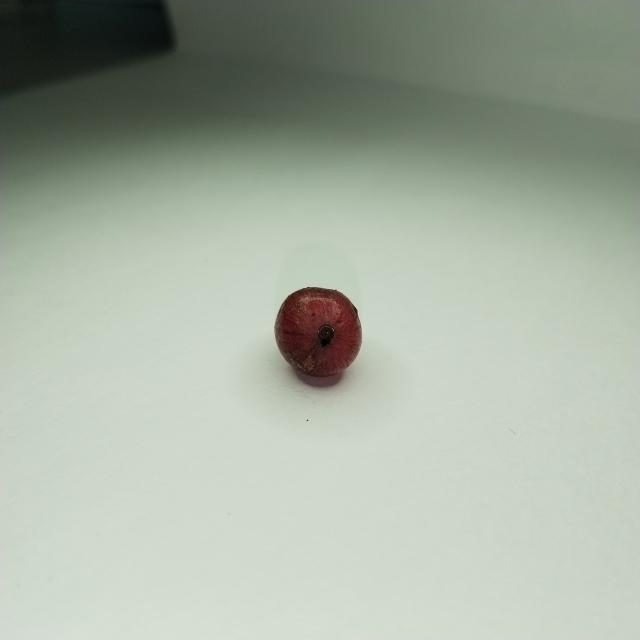Infectado: (275, 287, 362, 377)
